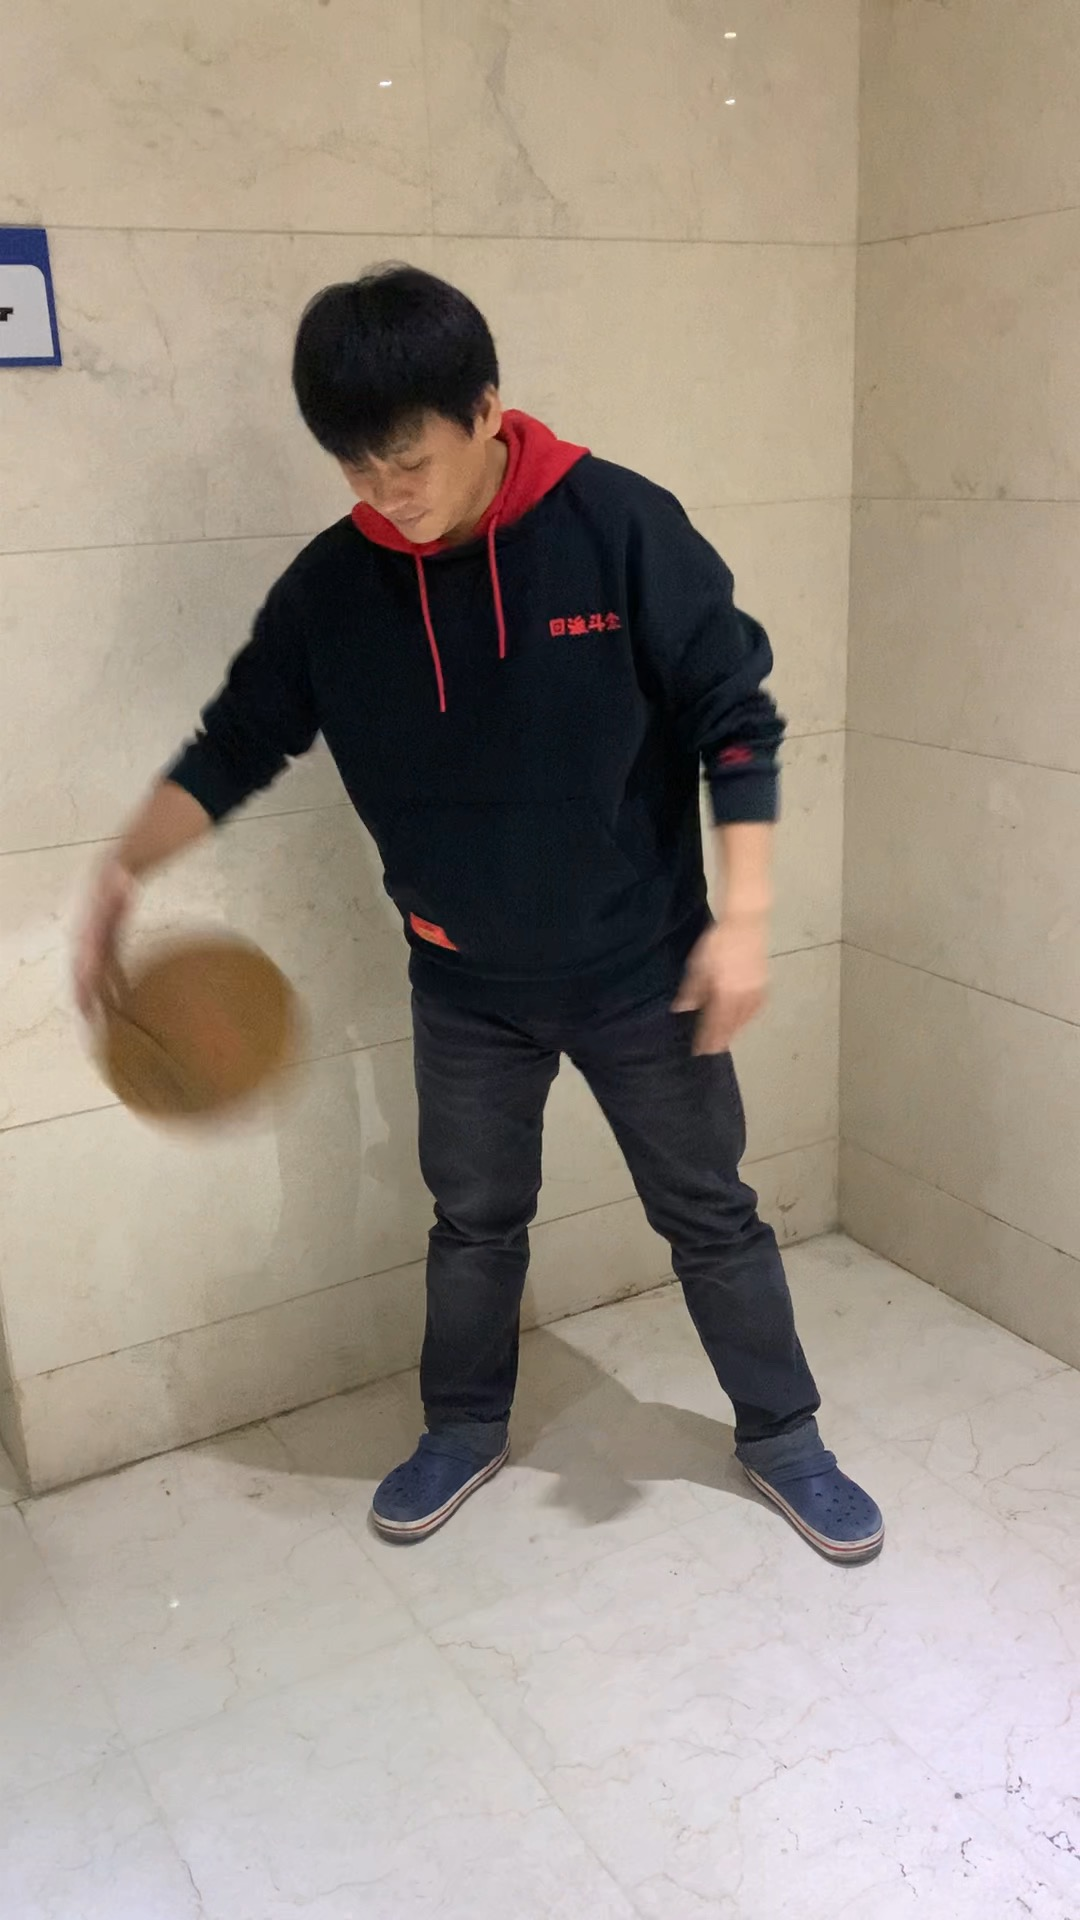ball: (74, 922, 323, 1150)
